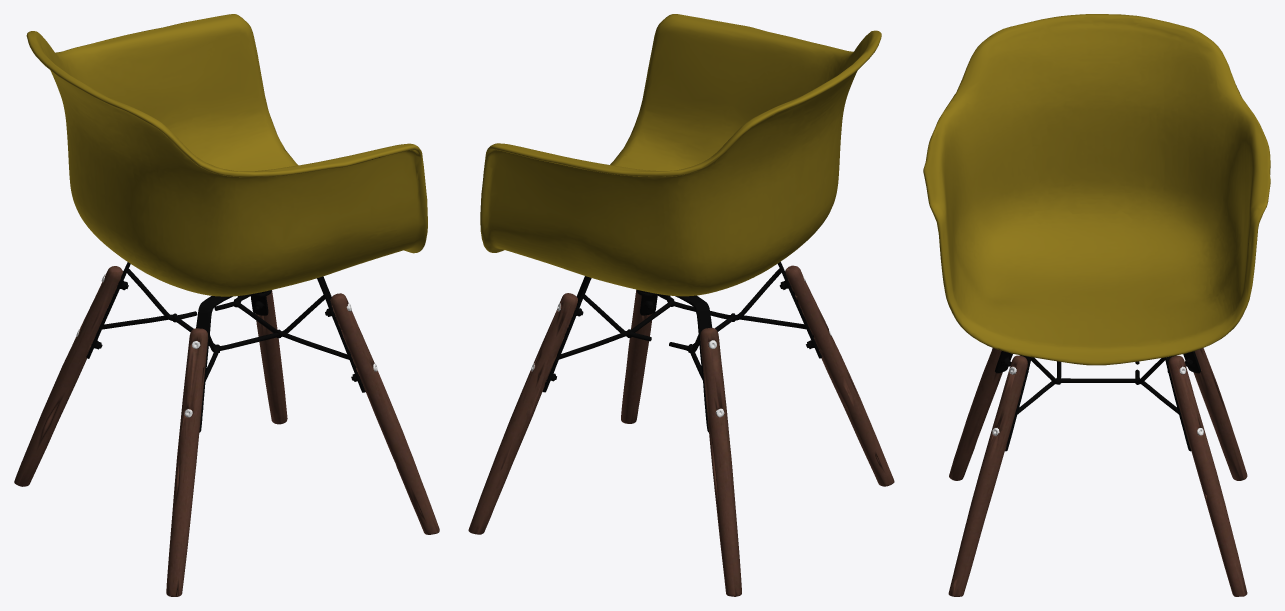
File: ND-0608__Elon_Arms4.glb
3 renders of one model, left to right at view 1: azimuth 30°, elevation 25°; view 2: azimuth 150°, elevation 25°; view 3: azimuth 270°, elevation 25°, orthographic. The views are drawn at different scales.
Visible parts, largest first — view 1: tripo_node_b968e583-11d0-47e2-a982-90cddb693f50.002, tripo_node_b968e583-11d0-47e2-a982-90cddb693f50, tripo_node_b968e583-11d0-47e2-a982-90cddb693f50.003; view 2: tripo_node_b968e583-11d0-47e2-a982-90cddb693f50.002, tripo_node_b968e583-11d0-47e2-a982-90cddb693f50, tripo_node_b968e583-11d0-47e2-a982-90cddb693f50.003; view 3: tripo_node_b968e583-11d0-47e2-a982-90cddb693f50.002, tripo_node_b968e583-11d0-47e2-a982-90cddb693f50, tripo_node_b968e583-11d0-47e2-a982-90cddb693f50.003.
Part boxes in pixels (x1,y1,x2,y2): tripo_node_b968e583-11d0-47e2-a982-90cddb693f50.002: (26,14,427,296); tripo_node_b968e583-11d0-47e2-a982-90cddb693f50: (14,266,439,596); tripo_node_b968e583-11d0-47e2-a982-90cddb693f50.003: (86,262,365,432); tripo_node_b968e583-11d0-47e2-a982-90cddb693f50.002: (480,14,881,296); tripo_node_b968e583-11d0-47e2-a982-90cddb693f50: (468,265,894,596); tripo_node_b968e583-11d0-47e2-a982-90cddb693f50.003: (542,262,821,432); tripo_node_b968e583-11d0-47e2-a982-90cddb693f50.002: (923,14,1270,365); tripo_node_b968e583-11d0-47e2-a982-90cddb693f50: (948,348,1247,596); tripo_node_b968e583-11d0-47e2-a982-90cddb693f50.003: (995,351,1200,451).
Size of the model in its own units: 0.659 by 0.9799 by 0.6906.
4 materials, 1 textured.
